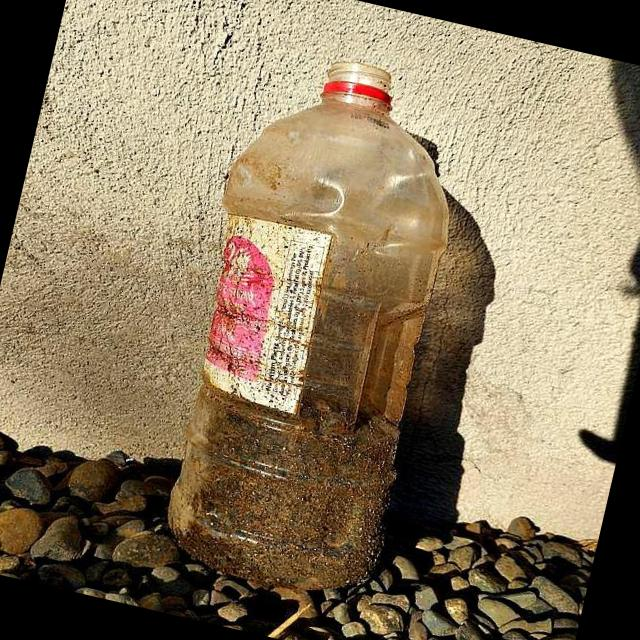Non-biodegradable: (141, 41, 486, 606)
